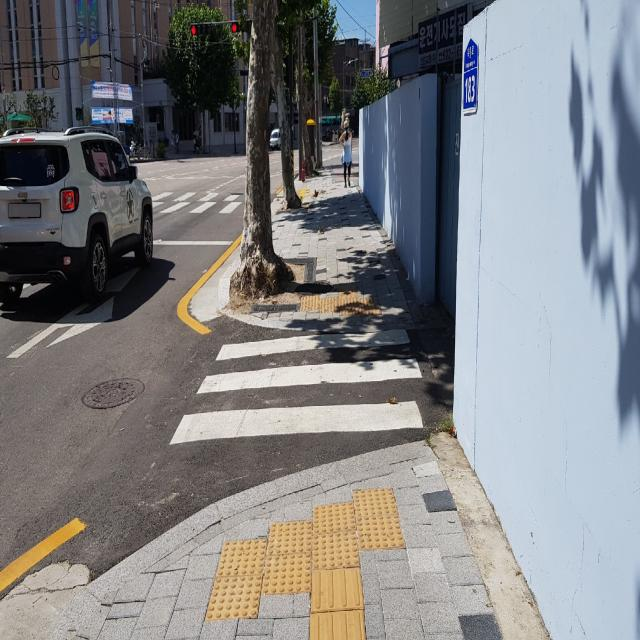횡단보도: (168, 328, 424, 447), (154, 186, 244, 213)
